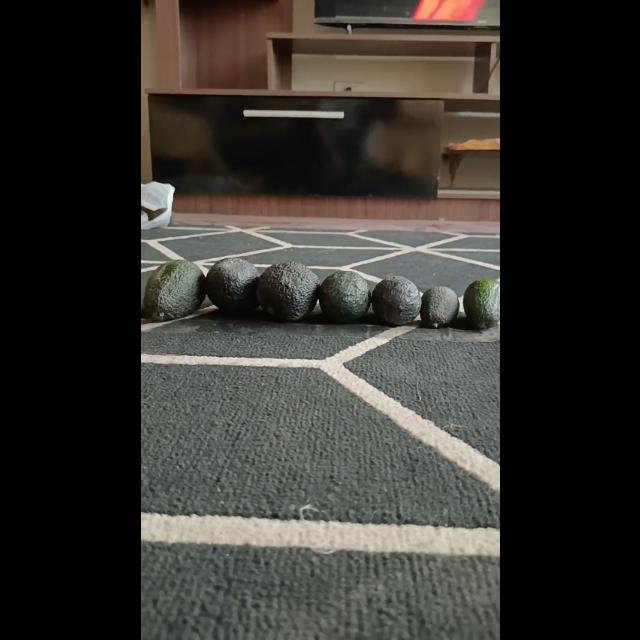Primera: (140, 259, 204, 321), (256, 260, 320, 320), (204, 256, 262, 314)
Segunda: (317, 270, 371, 322), (371, 274, 422, 326), (462, 278, 500, 330)
Tercera: (418, 285, 460, 329)
